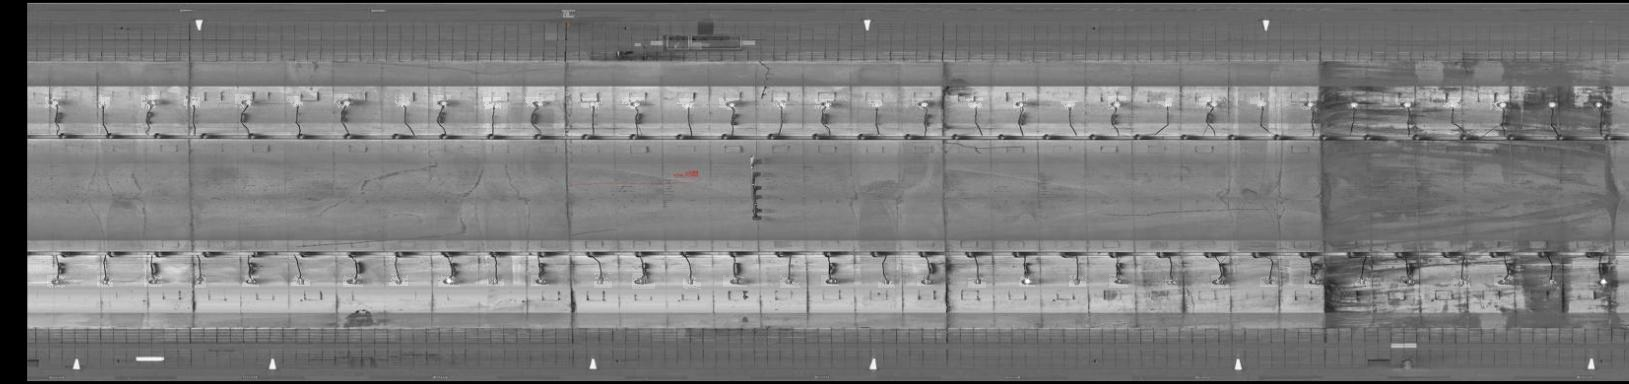light: (632, 273, 655, 289), (1490, 95, 1511, 112), (1199, 97, 1221, 111), (1590, 274, 1611, 289), (1304, 274, 1326, 289), (235, 94, 253, 111), (333, 94, 353, 110), (723, 275, 747, 287), (1398, 275, 1420, 289), (438, 274, 460, 287), (482, 97, 501, 112), (1443, 97, 1462, 112), (1109, 274, 1128, 289), (524, 97, 544, 110), (581, 98, 602, 111), (1395, 98, 1416, 111), (433, 95, 451, 111), (1109, 95, 1126, 111), (594, 273, 612, 289), (1539, 275, 1563, 286), (622, 97, 644, 109), (683, 274, 701, 289), (780, 275, 800, 289), (184, 97, 201, 112), (719, 98, 740, 110), (912, 98, 933, 110), (1544, 95, 1560, 111), (141, 95, 159, 110), (287, 95, 304, 110), (968, 274, 986, 289), (1250, 95, 1269, 109), (1451, 275, 1470, 289), (1211, 275, 1230, 289), (47, 275, 65, 289), (1494, 274, 1514, 286), (389, 274, 408, 286), (343, 275, 363, 287), (190, 273, 206, 289), (677, 98, 694, 112), (393, 97, 410, 110), (1300, 98, 1317, 111), (1590, 98, 1607, 111), (966, 97, 983, 110), (97, 275, 113, 289), (144, 275, 162, 287), (814, 99, 835, 109), (821, 275, 839, 286), (291, 275, 310, 286), (96, 97, 110, 111), (1163, 275, 1178, 289), (45, 97, 61, 109), (1069, 275, 1086, 287), (242, 275, 259, 287), (1260, 277, 1280, 287), (531, 275, 549, 286), (1355, 276, 1370, 289), (1061, 101, 1078, 111), (1343, 100, 1361, 110), (1158, 98, 1173, 110), (1019, 276, 1035, 287), (917, 275, 933, 286), (878, 278, 894, 289), (487, 276, 504, 286), (774, 97, 786, 110), (867, 100, 882, 111), (1013, 98, 1029, 108)
